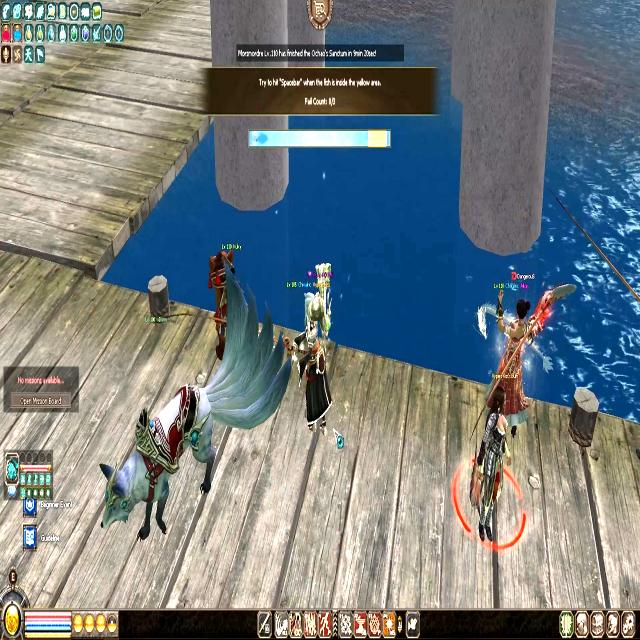fishes: (253, 130, 270, 147)
